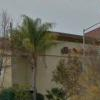Palm tree: (16, 10, 52, 82)
